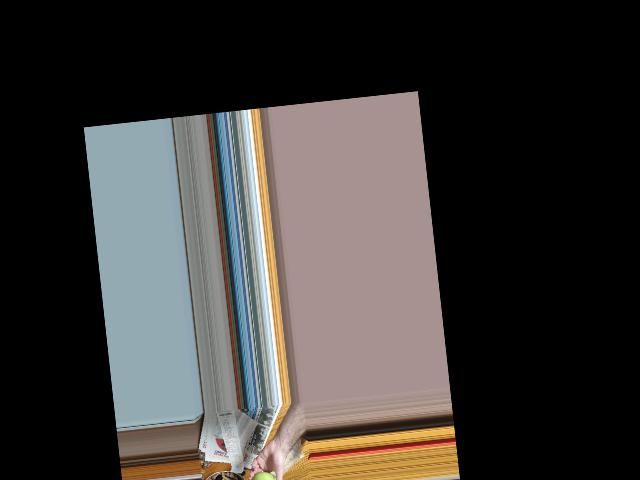apple: (250, 468, 279, 480)
